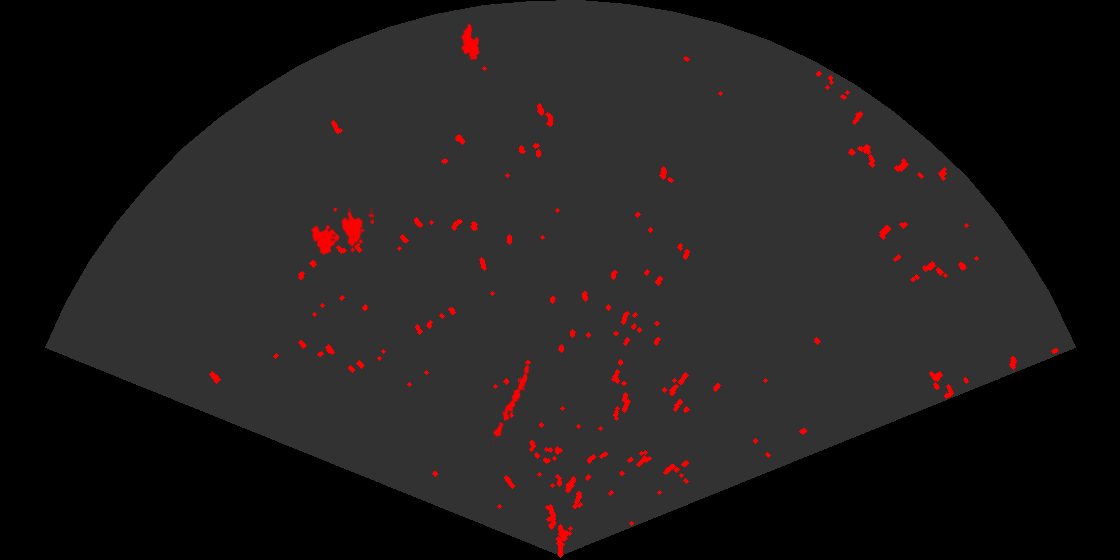AUV: (460, 22, 481, 62)
cage: (309, 208, 374, 257)
chain: (490, 363, 531, 444)
